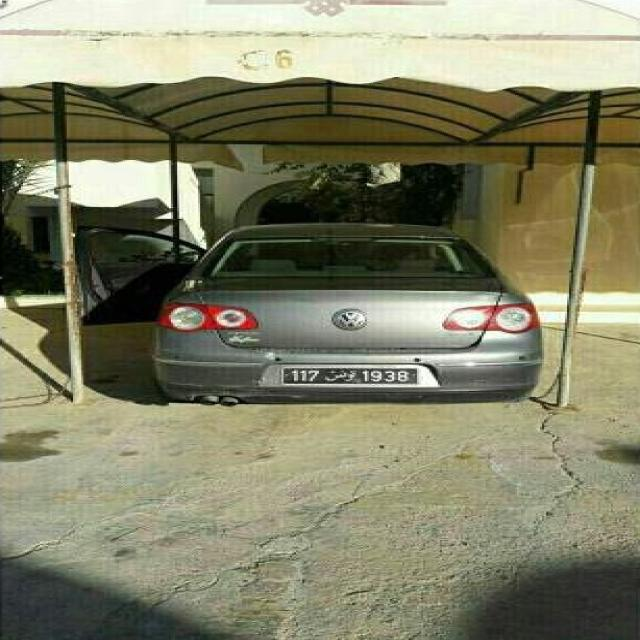licence plate: (284, 365, 424, 387)
